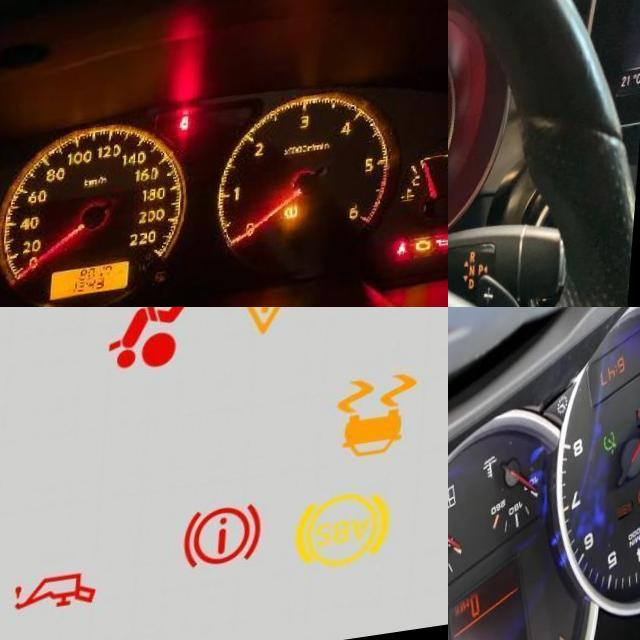High Engine Coolant Temperature: (406, 204, 421, 220)
Seat Belt: (404, 259, 414, 273)
